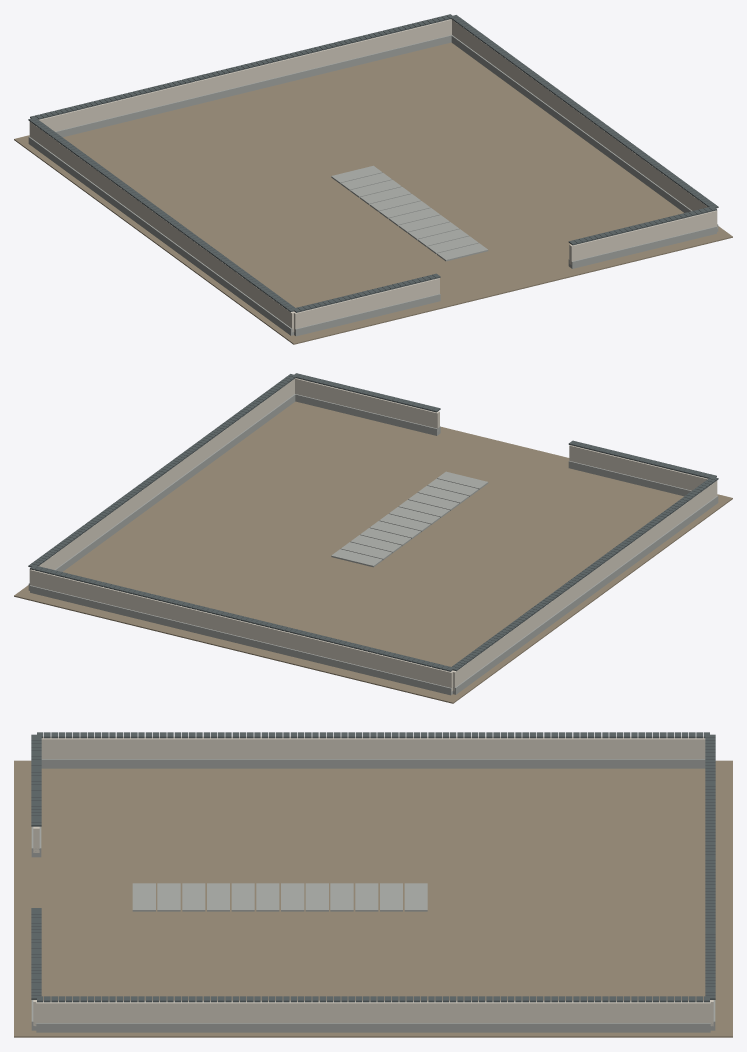
File: Gwana_Site.fbx
3 renders of one model, top to bottom at view 1: azimuth 30°, elevation 25°; view 2: azimuth 150°, elevation 25°; view 3: azimuth 270°, elevation 25°, orthographic. The views are drawn at different scales.
Parts seen in each view (by area): view 1: GW_Gwana_Courtyard, GW_Gwana_Enclosure_Plaster, GW_Gwana_Enclosure_Stone, GW_Gwana_Enclosure_Individual_Tiles, GW_Gwana_Stone_Walkway; view 2: GW_Gwana_Courtyard, GW_Gwana_Enclosure_Plaster, GW_Gwana_Enclosure_Stone, GW_Gwana_Enclosure_Individual_Tiles, GW_Gwana_Stone_Walkway; view 3: GW_Gwana_Courtyard, GW_Gwana_Enclosure_Plaster, GW_Gwana_Enclosure_Individual_Tiles, GW_Gwana_Enclosure_Stone, GW_Gwana_Stone_Walkway.
Part boxes in pixels (bbox=[...]): GW_Gwana_Courtyard: bbox=[14, 42, 732, 344]; GW_Gwana_Enclosure_Plaster: bbox=[29, 19, 717, 332]; GW_Gwana_Enclosure_Stone: bbox=[28, 35, 718, 336]; GW_Gwana_Enclosure_Individual_Tiles: bbox=[28, 14, 718, 312]; GW_Gwana_Stone_Walkway: bbox=[331, 165, 488, 261]; GW_Gwana_Courtyard: bbox=[14, 401, 732, 703]; GW_Gwana_Enclosure_Plaster: bbox=[29, 378, 717, 691]; GW_Gwana_Enclosure_Stone: bbox=[28, 394, 718, 695]; GW_Gwana_Enclosure_Individual_Tiles: bbox=[28, 373, 718, 671]; GW_Gwana_Stone_Walkway: bbox=[331, 471, 488, 567]; GW_Gwana_Courtyard: bbox=[14, 760, 732, 1037]; GW_Gwana_Enclosure_Plaster: bbox=[33, 736, 713, 1026]; GW_Gwana_Enclosure_Individual_Tiles: bbox=[31, 732, 715, 1002]; GW_Gwana_Enclosure_Stone: bbox=[31, 759, 715, 1032]; GW_Gwana_Stone_Walkway: bbox=[132, 883, 427, 911].
Bounding box in the file's own units: 29 × 1.64 × 32.
